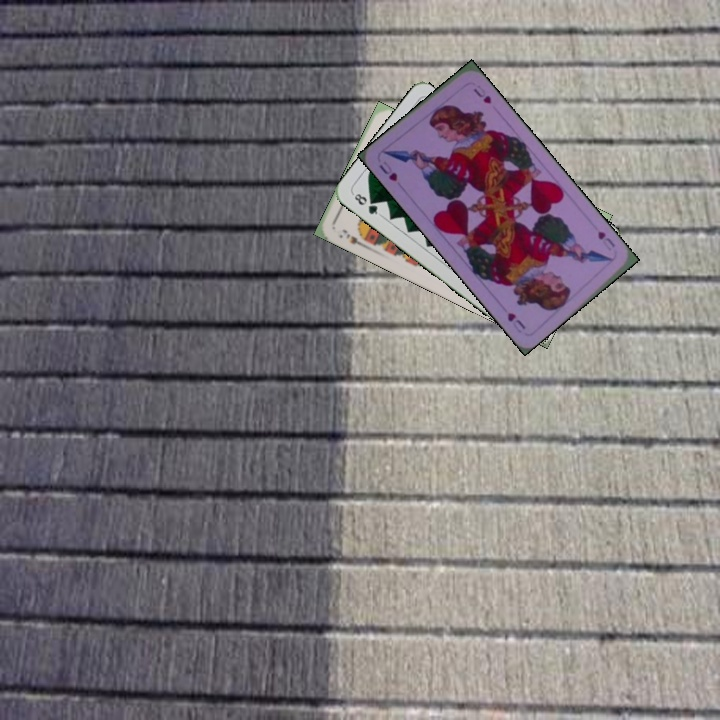G8: (349, 189, 384, 218)
HU: (375, 157, 400, 184), (594, 227, 618, 253)
S9: (338, 225, 371, 251)
